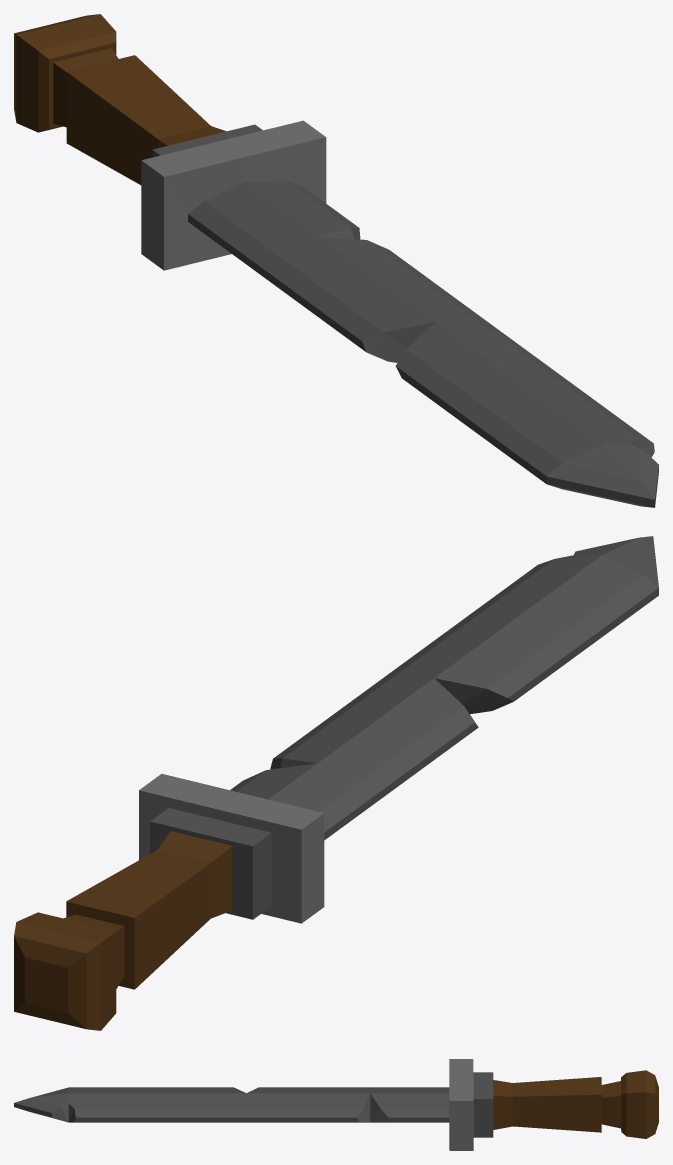
Rendered from F_Sword_B.fbx.
The picture shows the model from 3 angles, top to bottom: view 1: azimuth 30°, elevation 25°; view 2: azimuth 150°, elevation 25°; view 3: azimuth 270°, elevation 25°; orthographic projection. The views are drawn at different scales.
Visible parts, largest first — view 1: F_Sword_B; view 2: F_Sword_B; view 3: F_Sword_B.
Part boxes in pixels (x1,y1,x2,y2): F_Sword_B: (14,14,658,507); F_Sword_B: (14,536,658,1030); F_Sword_B: (14,1059,658,1150).
Bounding box in the file's own units: 15.82 × 8.73 × 102.
